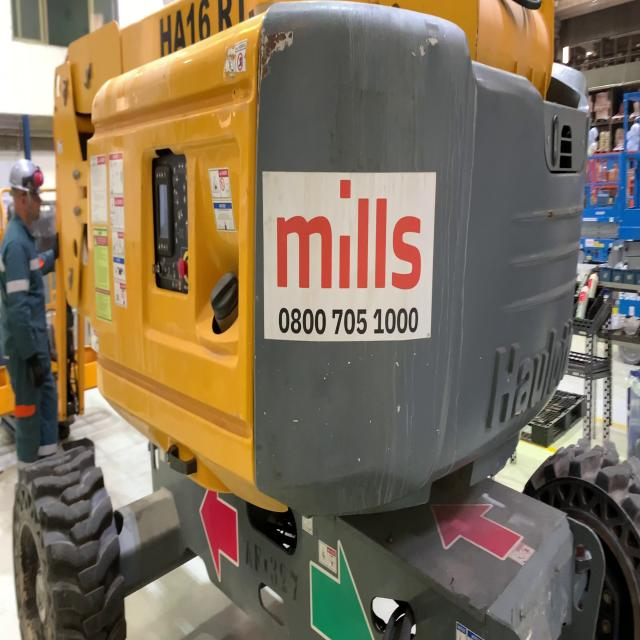Adesivos: (259, 163, 441, 345)
